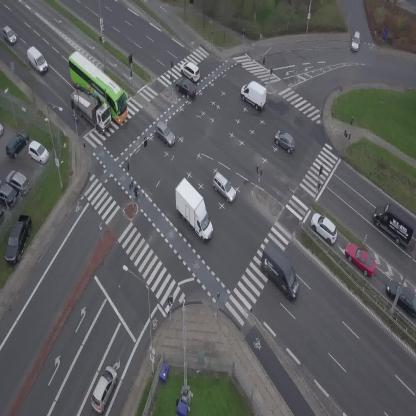bicycle: (132, 185, 142, 203)
bus: (58, 47, 139, 124)
car: (340, 237, 382, 281), (86, 364, 121, 415), (305, 209, 343, 247), (207, 170, 241, 204), (150, 119, 180, 148), (171, 73, 201, 102), (269, 127, 300, 155), (177, 58, 204, 84), (0, 24, 19, 47), (350, 30, 362, 52)
lorry: (162, 177, 226, 243), (250, 242, 310, 302), (63, 80, 120, 135), (236, 77, 273, 113), (22, 45, 52, 75)
